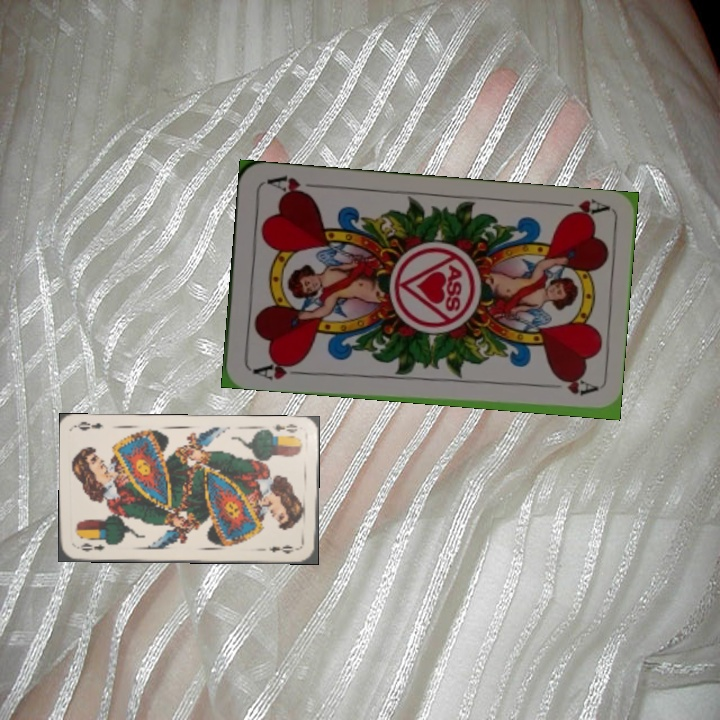EO: (268, 419, 300, 435), (77, 539, 107, 554)
HA: (552, 195, 611, 223), (248, 356, 306, 383)
